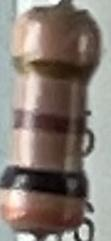Black: (0, 163, 88, 199)
Brown: (10, 107, 86, 138)
Orange: (4, 203, 85, 230)
Side-Gold: (10, 53, 99, 84)
